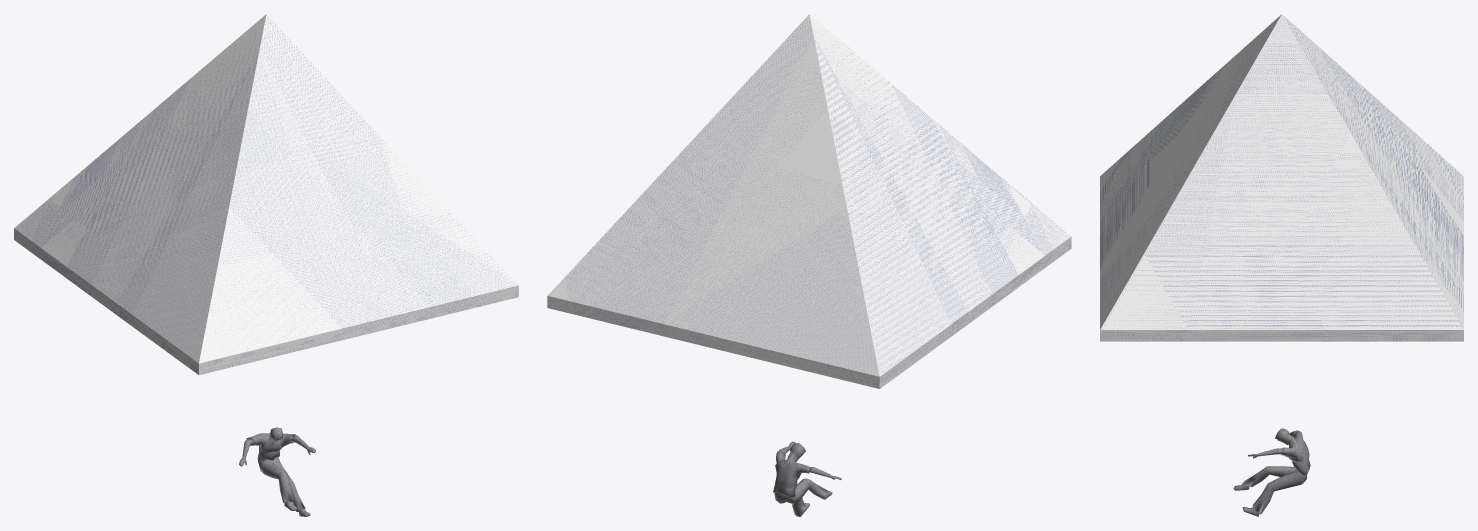
3 renders of one model, left to right at view 1: azimuth 30°, elevation 25°; view 2: azimuth 150°, elevation 25°; view 3: azimuth 270°, elevation 25°, orthographic. The views are drawn at different scales.
Visible parts, largest first — view 1: Component_1, ske72; view 2: Component_1, ske72; view 3: Component_1, ske72.
Part boxes in pixels (<box>): Component_1: <box>14,14,518,374</box>; ske72: <box>239,427,315,516</box>; Component_1: <box>547,14,1071,388</box>; ske72: <box>773,441,841,516</box>; Component_1: <box>1100,14,1463,341</box>; ske72: <box>1233,428,1310,516</box>.
Size of the model in its own units: 220 by 220 by 328.
